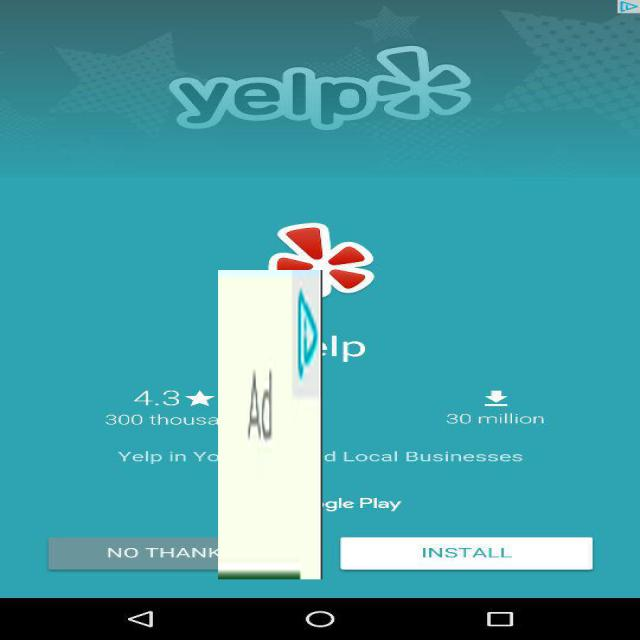sneaking: (218, 270, 322, 579)
